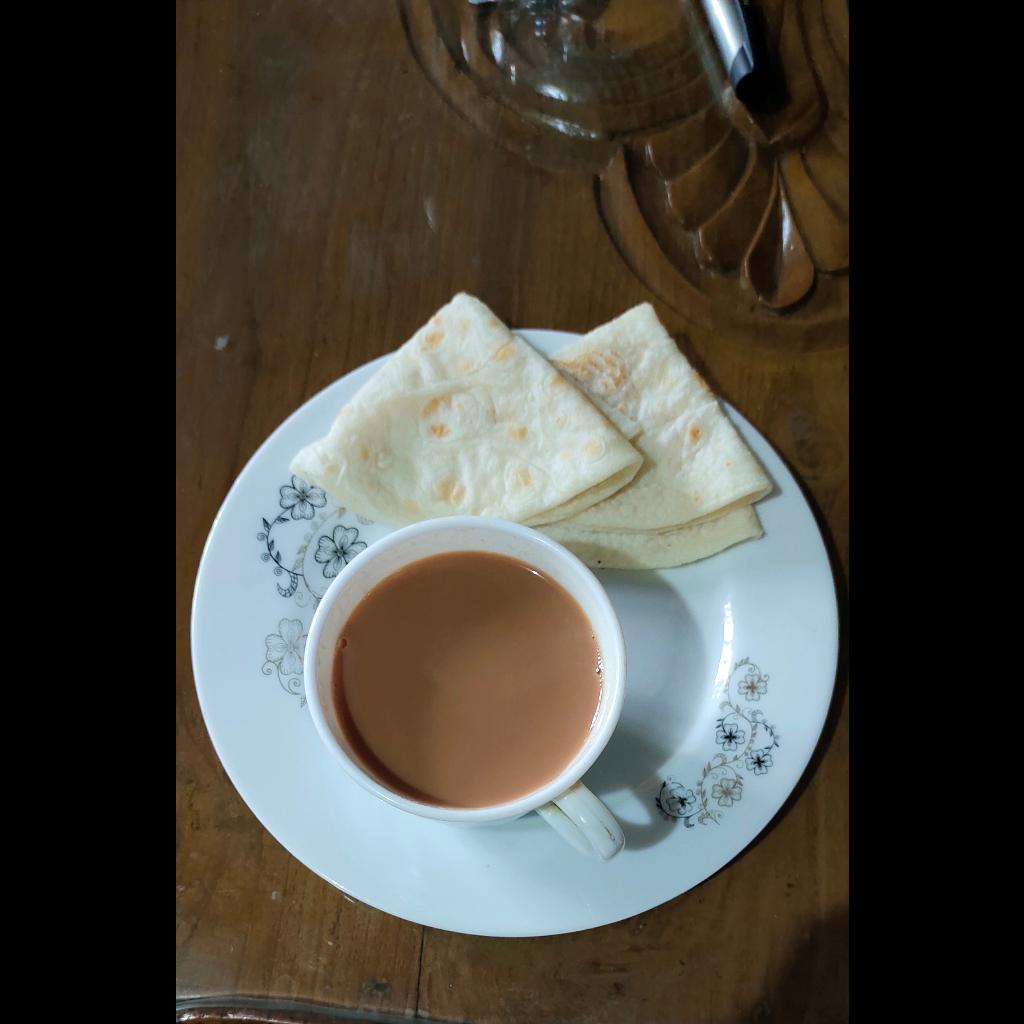cha: (330, 550, 601, 804)
ruti: (286, 281, 777, 581)
